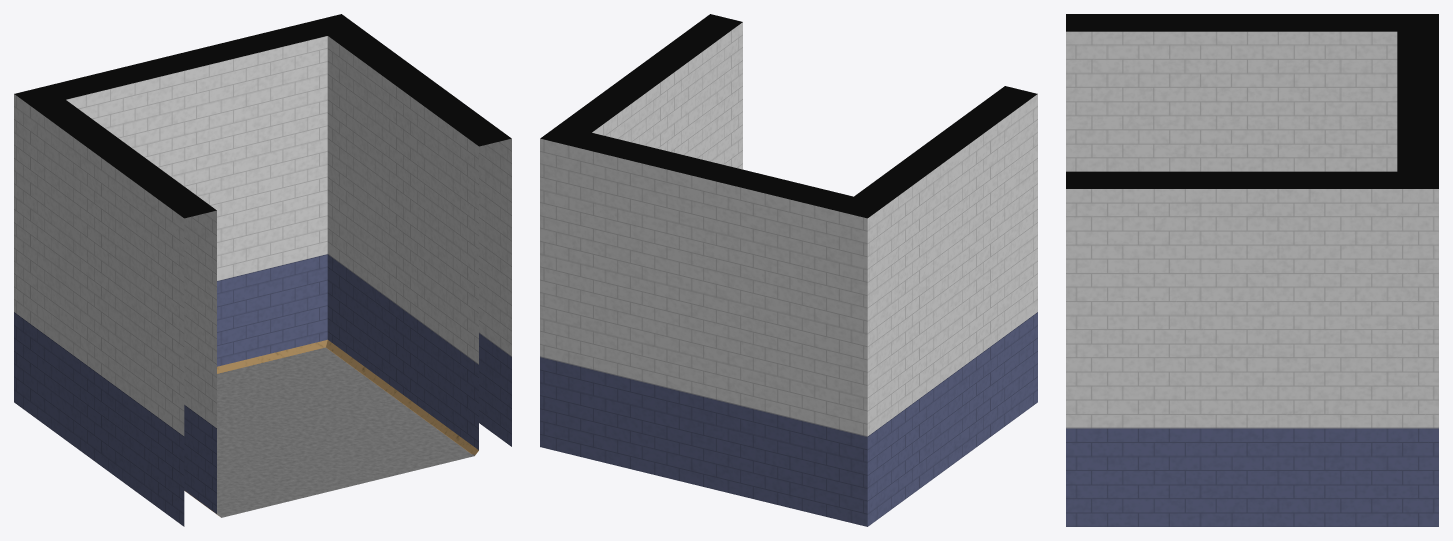
The model's file is deadend.glb.
3 views of the same model, side by side, from view 1: azimuth 30°, elevation 25°; view 2: azimuth 150°, elevation 25°; view 3: azimuth 270°, elevation 25° (orthographic). The views are drawn at different scales.
Visible parts, largest first — view 1: deadend.001; view 2: deadend.001; view 3: deadend.001.
Part boxes in pixels (box(x1,y1,x2,y2)): deadend.001: box(14, 14, 511, 526); deadend.001: box(540, 14, 1037, 526); deadend.001: box(1066, 14, 1438, 526).
Size of the model in its own units: 10 by 9 by 9.
1 material, 1 textured.
